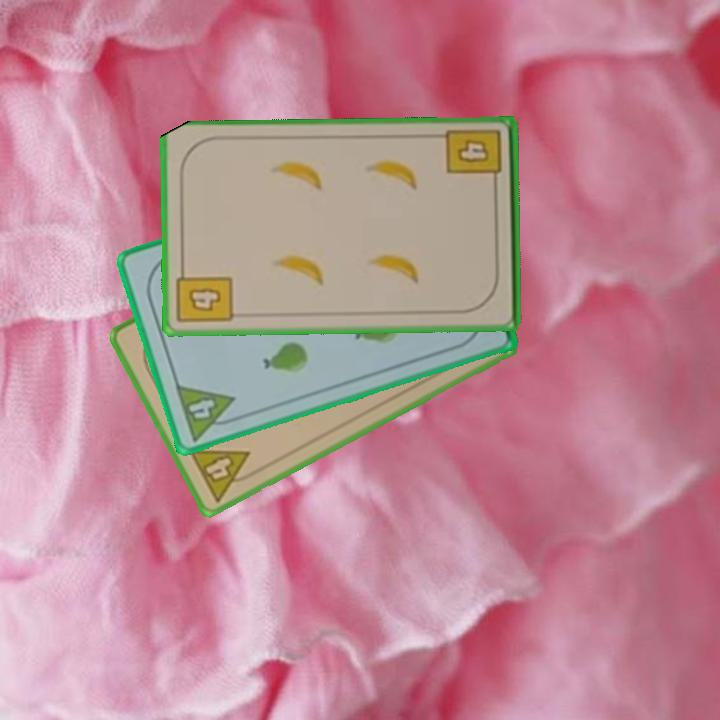4b: (443, 126, 505, 191), (174, 262, 235, 327)
4p: (185, 445, 262, 505), (171, 381, 243, 444)
